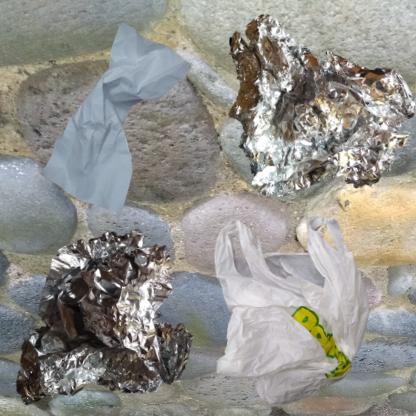aluminio: (10, 213, 218, 416), (213, 10, 416, 213)
bolsa: (213, 213, 372, 409)
papel: (10, 10, 230, 246)
